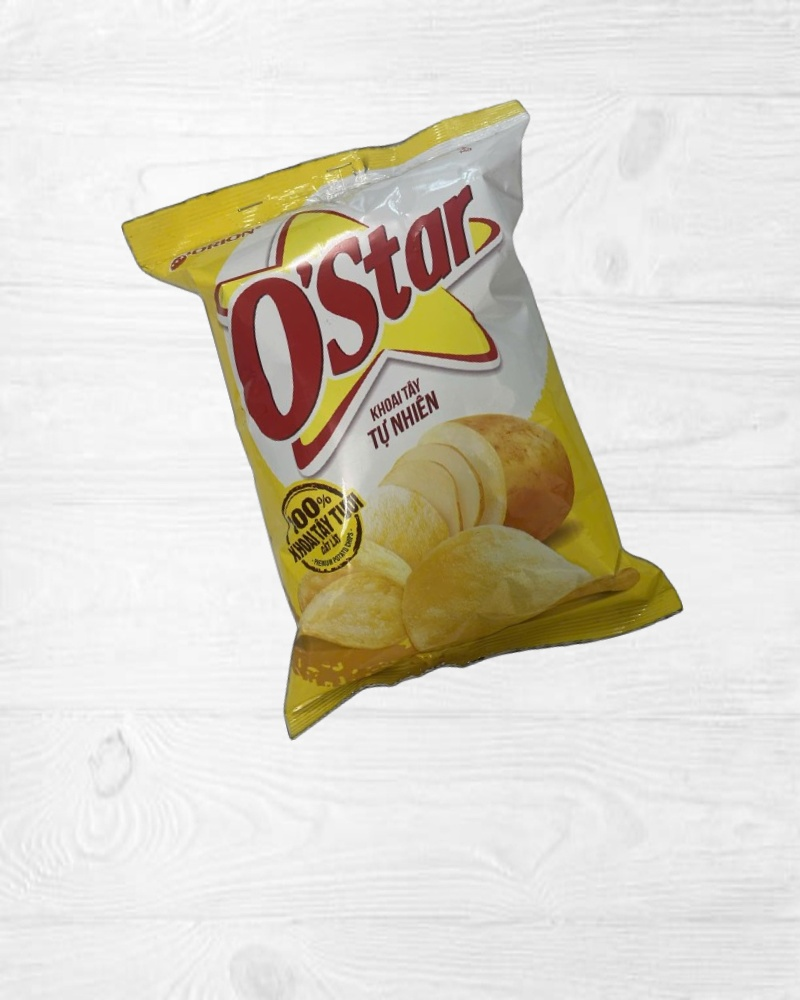O'star: (118, 92, 690, 748)
